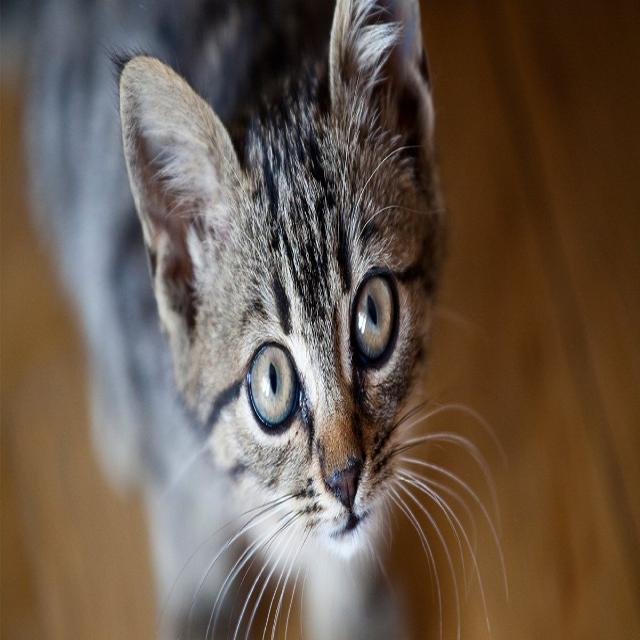cat: (168, 95, 436, 540)
